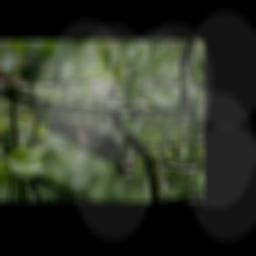Cuckoo: (0, 107, 134, 178)
